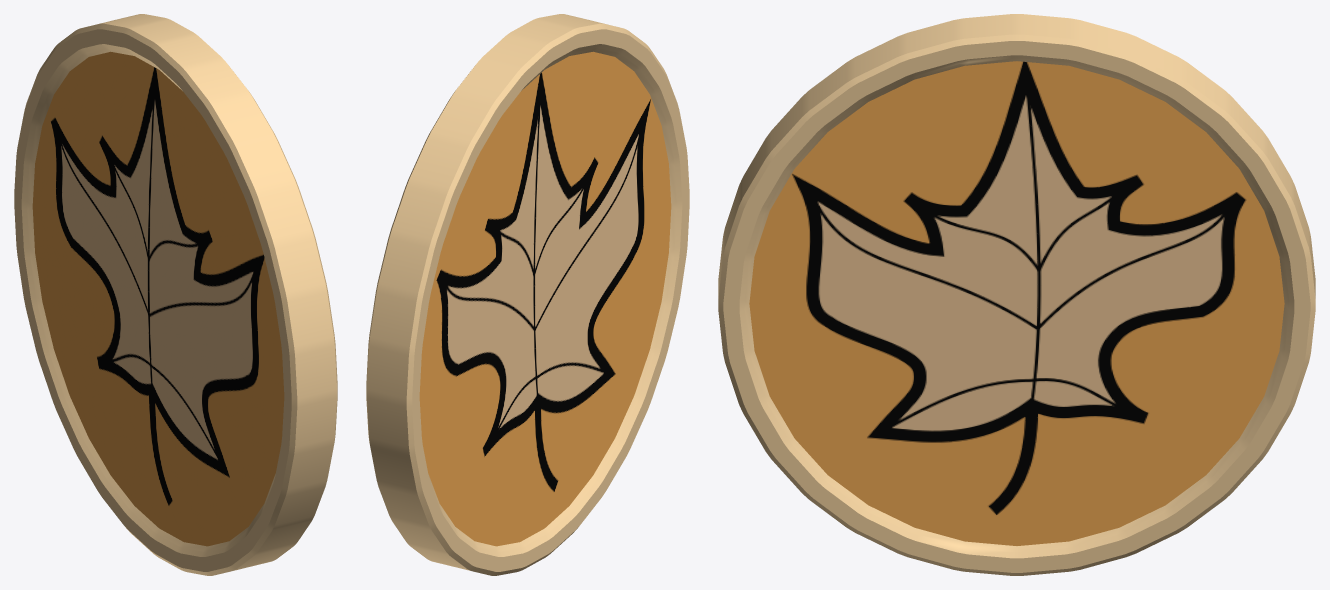
The model's file is coin.fbx.
3 renders of one model, left to right at view 1: azimuth 30°, elevation 25°; view 2: azimuth 150°, elevation 25°; view 3: azimuth 270°, elevation 25°, orthographic. The views are drawn at different scales.
Visible parts, largest first — view 1: Cylinder; view 2: Cylinder; view 3: Cylinder.
Part boxes in pixels (x1,y1,x2,y2): Cylinder: [14, 14, 337, 575]; Cylinder: [366, 14, 689, 575]; Cylinder: [718, 14, 1315, 575].
Size of the model in its own units: 18.79 by 200 by 200.
